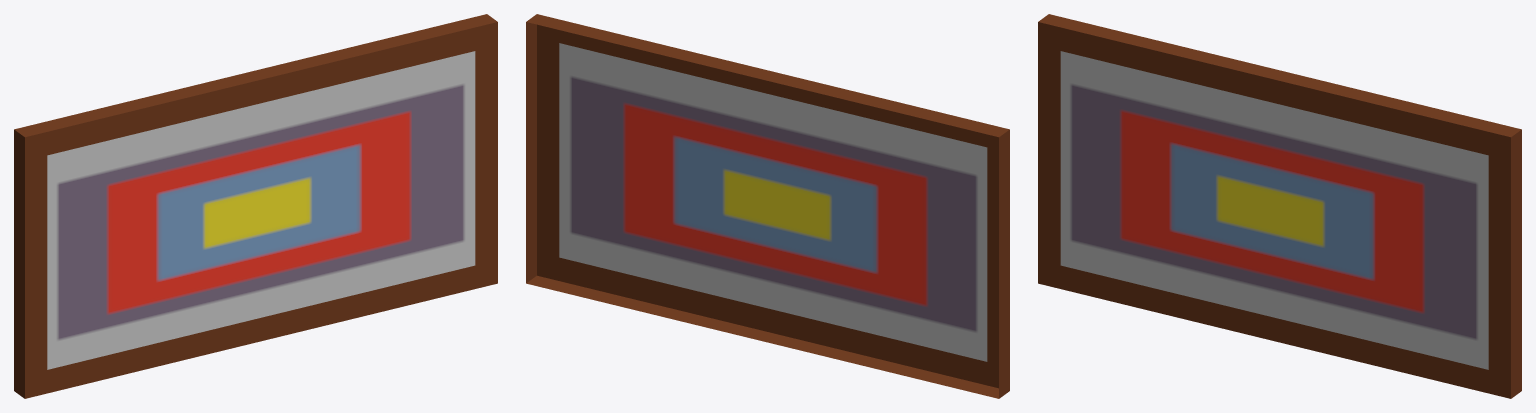
The model's file is Paint_6.fbx.
3 views of the same model, side by side, from view 1: azimuth 30°, elevation 25°; view 2: azimuth 150°, elevation 25°; view 3: azimuth 330°, elevation 25° (orthographic).
Parts seen in each view (by area): view 1: polySurface1563; view 2: polySurface1563; view 3: polySurface1563.
Boxes of the visible parts, x1,y1,x2,y2 form: polySurface1563: (14, 14, 497, 398); polySurface1563: (526, 14, 1009, 398); polySurface1563: (1038, 14, 1521, 398).
Size of the model in its own units: 2.02 by 1.07 by 0.08.
Materials: 1 (1 with a texture image).
